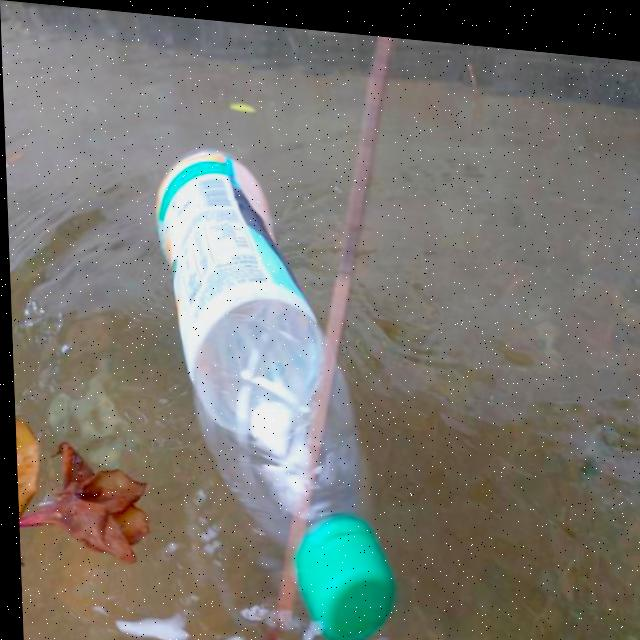leaf: (12, 408, 135, 591)
waterbottle: (132, 126, 412, 637)
